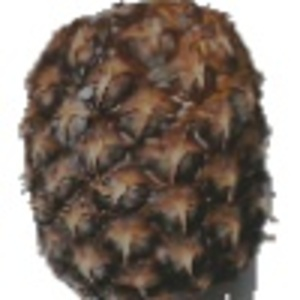abacaxi: (17, 3, 277, 295)
